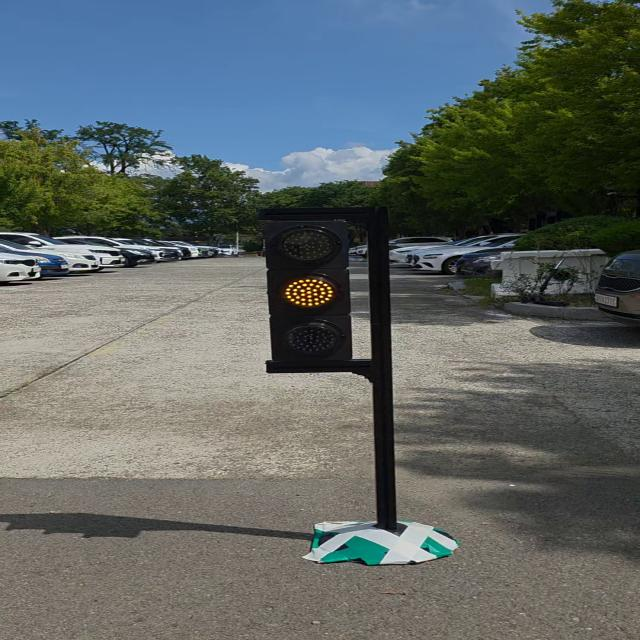yellow: (263, 214, 361, 372)
